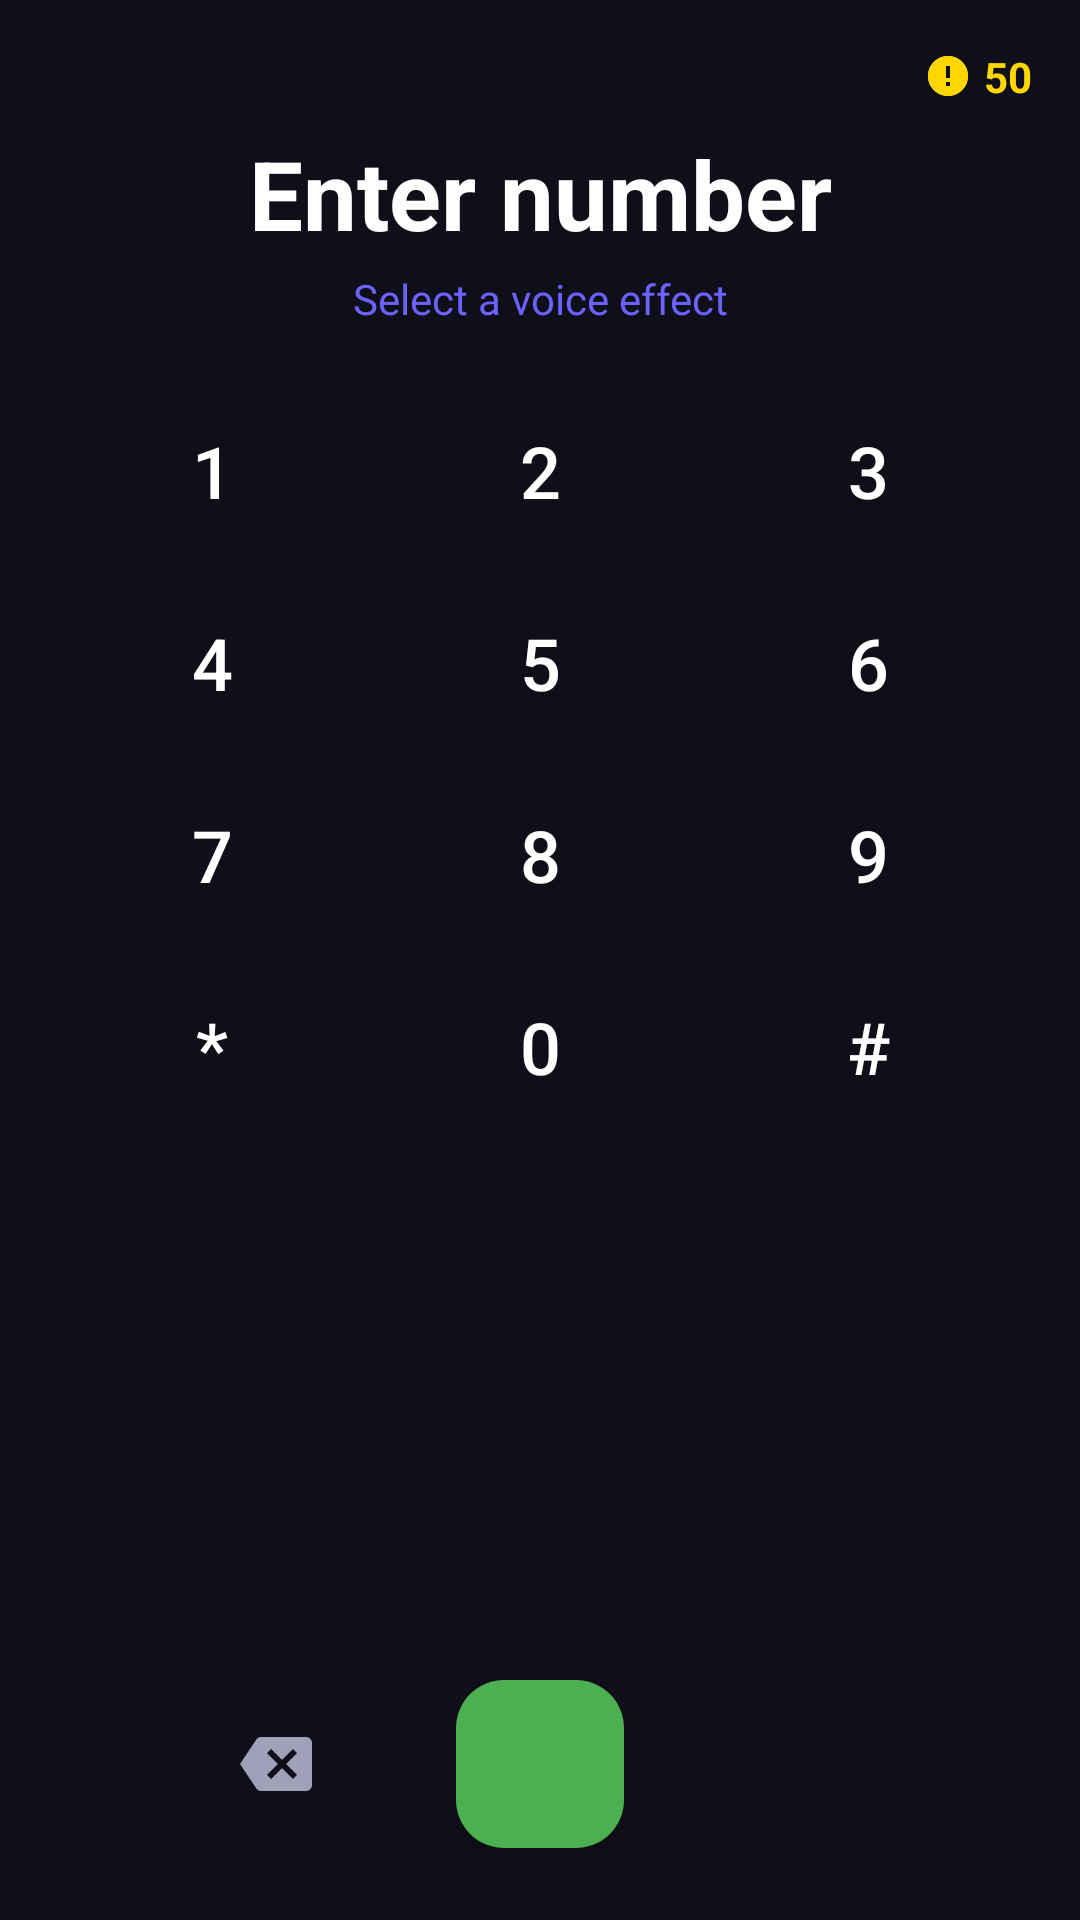

Screen size 1080×1920. Icon name, then its center in pixels as (x=x, y=y):
Delete: (x=276, y=1764)
